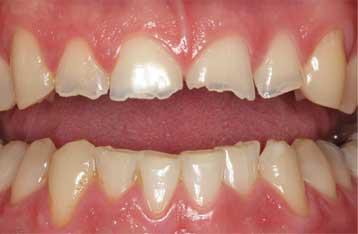normal: (108, 31, 182, 100), (45, 137, 98, 226), (182, 36, 254, 100), (257, 137, 308, 215), (8, 26, 54, 110), (300, 28, 346, 109), (53, 36, 109, 99), (252, 30, 302, 98), (8, 136, 58, 203), (139, 148, 180, 219), (181, 147, 225, 210), (290, 137, 336, 197), (213, 138, 258, 194), (98, 146, 140, 201), (313, 139, 352, 190)
